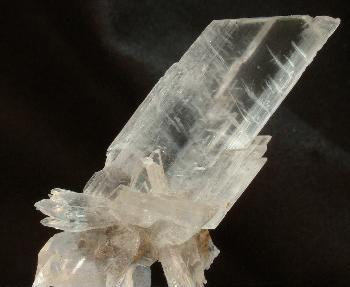gypsum: (36, 16, 340, 287)
